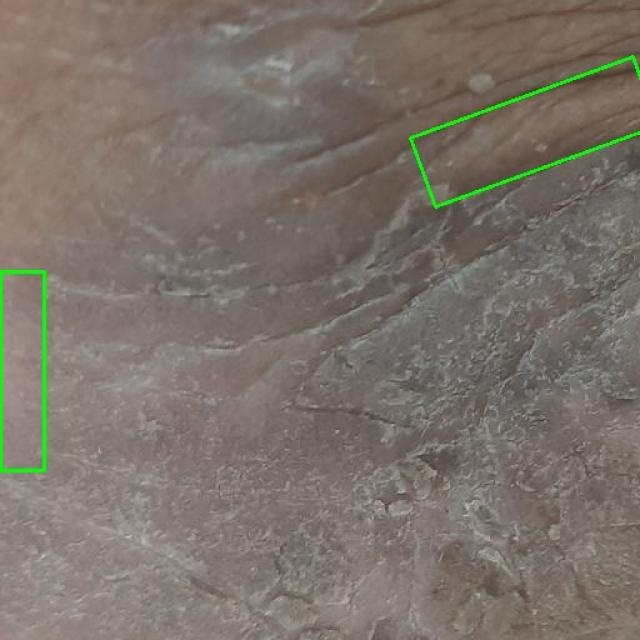Eczema: (410, 57, 640, 207), (0, 271, 45, 470)
